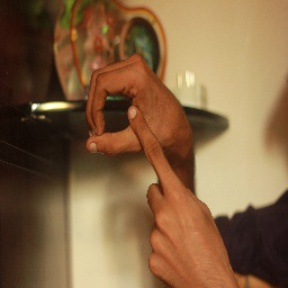Q: (79, 53, 196, 209)
